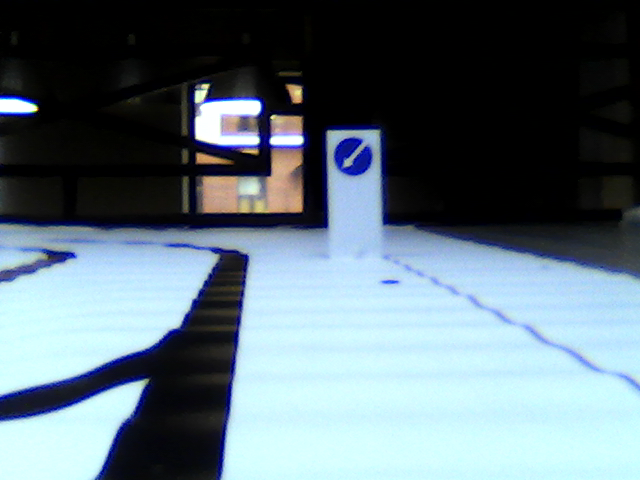prep: (335, 138, 372, 175)
